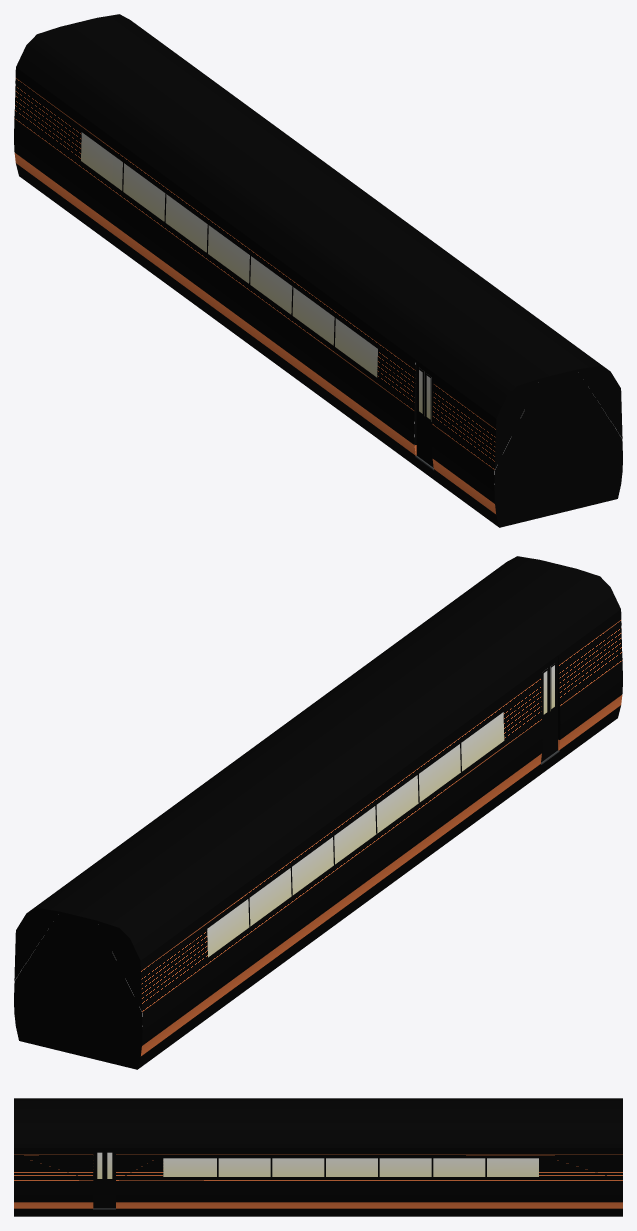
File: ULR_2.glb
3 views of the same model, one above another, from view 1: azimuth 30°, elevation 25°; view 2: azimuth 150°, elevation 25°; view 3: azimuth 270°, elevation 25° (orthographic). The views are drawn at different scales.
Parts seen in each view (by area): view 1: obj2; view 2: obj2; view 3: obj2.
Part boxes in pixels (bbox=[...]): obj2: bbox=[14, 14, 622, 527]; obj2: bbox=[14, 556, 622, 1069]; obj2: bbox=[14, 1098, 622, 1216].
Bounding box in the file's own units: 6.49 × 6.72 × 42.
7 materials, 7 textured.
